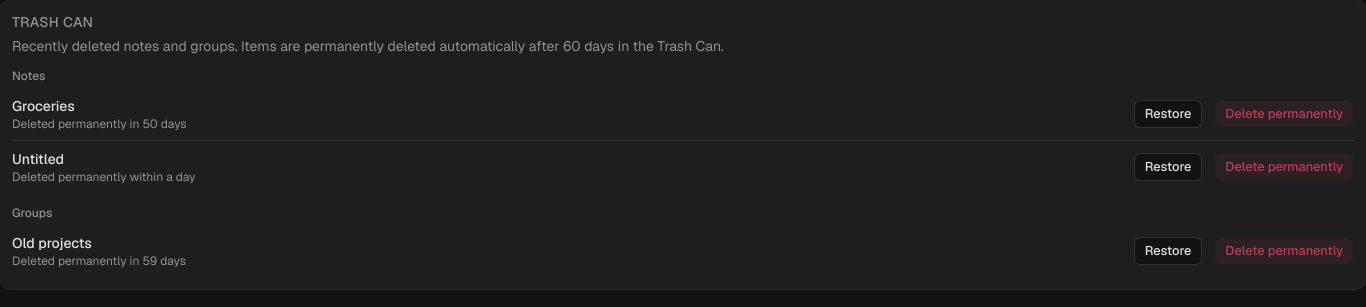
Test case: TrashCan › restores a note and removes it from the list
Click the button with aria-label "Restore Groceries": point(1168, 114) [1134,100,1202,128]
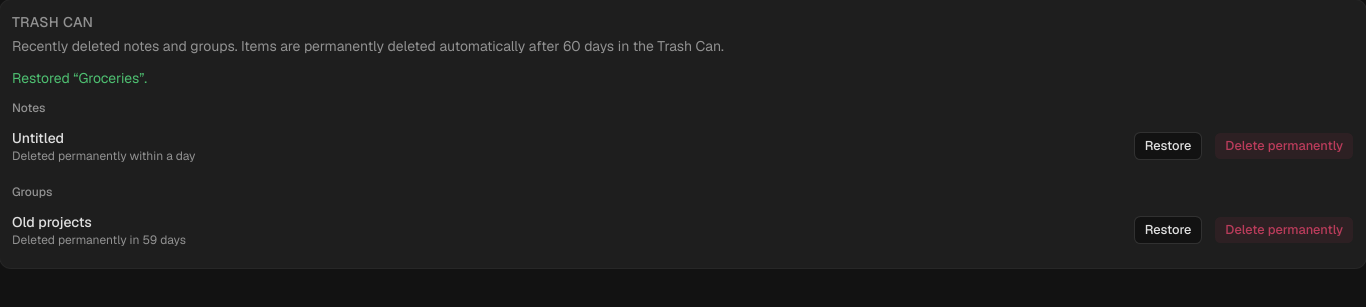
expect the message reads "Restored “Groceries”.": met, box [12,69,147,87]
